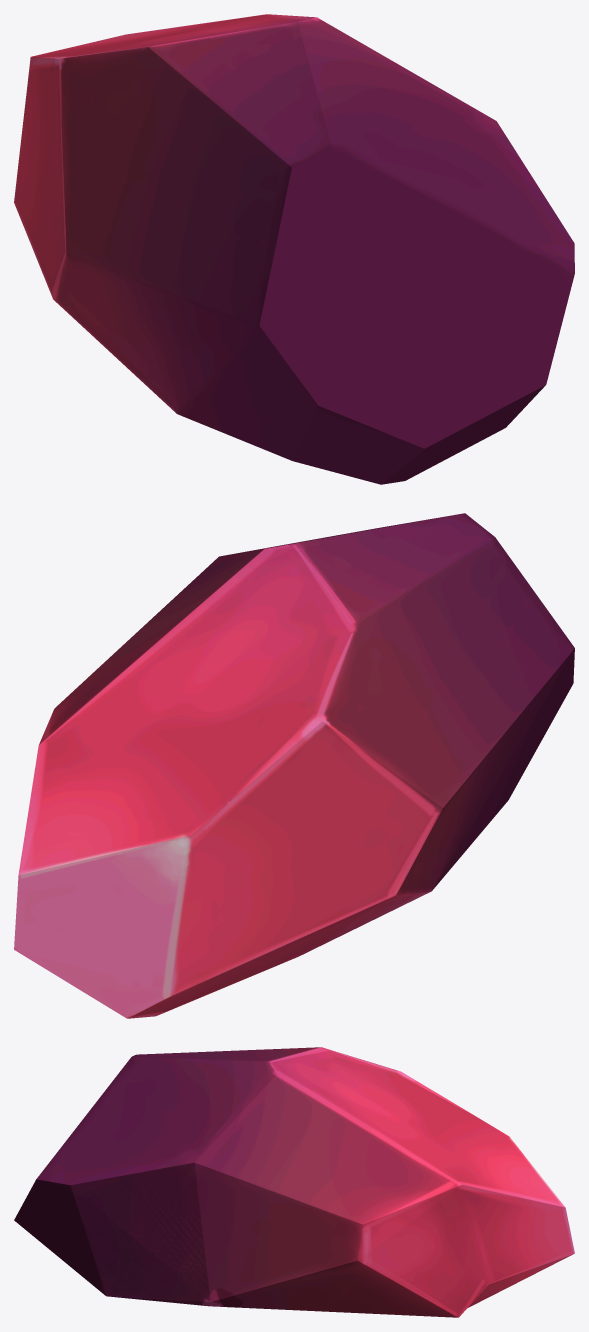
Rendered from crystal.FBX.
The picture shows the model from 3 angles, top to bottom: view 1: azimuth 30°, elevation 25°; view 2: azimuth 150°, elevation 25°; view 3: azimuth 270°, elevation 25°; orthographic projection. The views are drawn at different scales.
Visible parts, largest first — view 1: default; view 2: default; view 3: default.
Boxes of the visible parts, x1,y1,x2,y2 form: default: (14, 14, 574, 484); default: (14, 513, 574, 1018); default: (14, 1047, 574, 1317).
Bounding box in the file's own units: 5.3 × 5.29 × 10.58.
